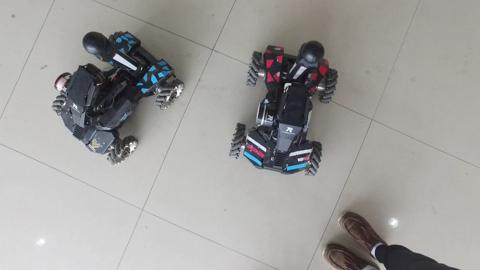chariot: (49, 12, 187, 168), (228, 35, 344, 187)
